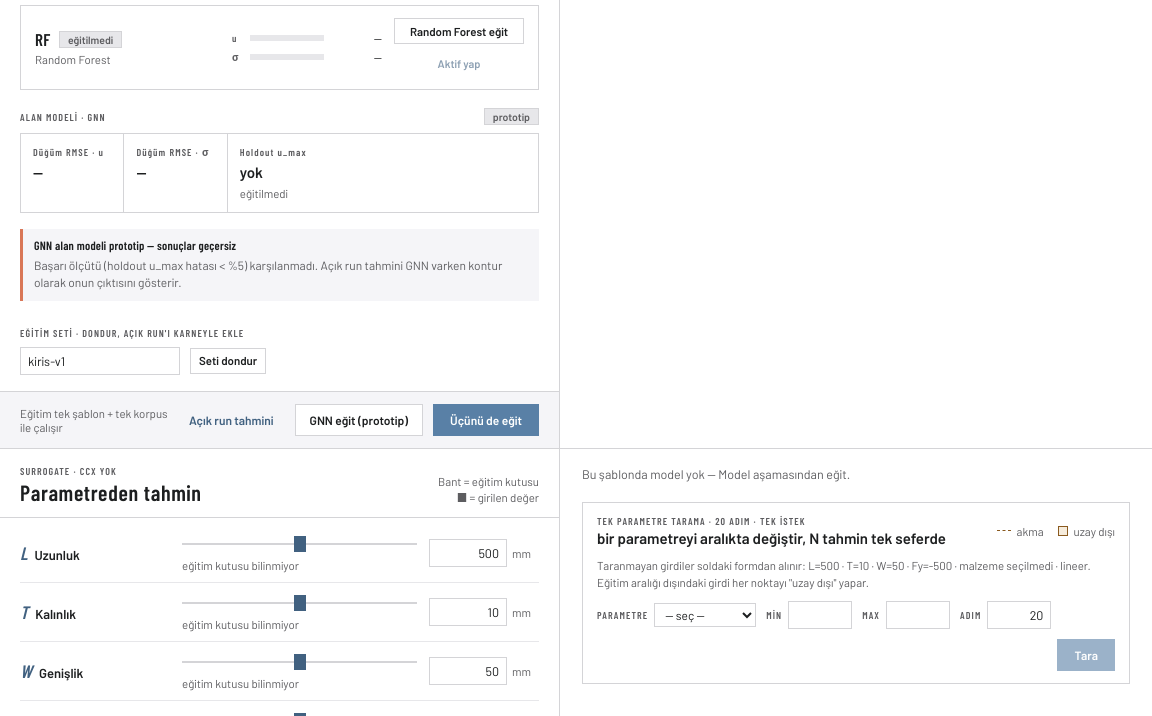
SurrogatePanel › seti dondurur ve eğitimi o setle çalıştırır
(page scrolled)
Click the button "Seti dondur": (228, 361) [190,348,266,374]
(page scrolled)
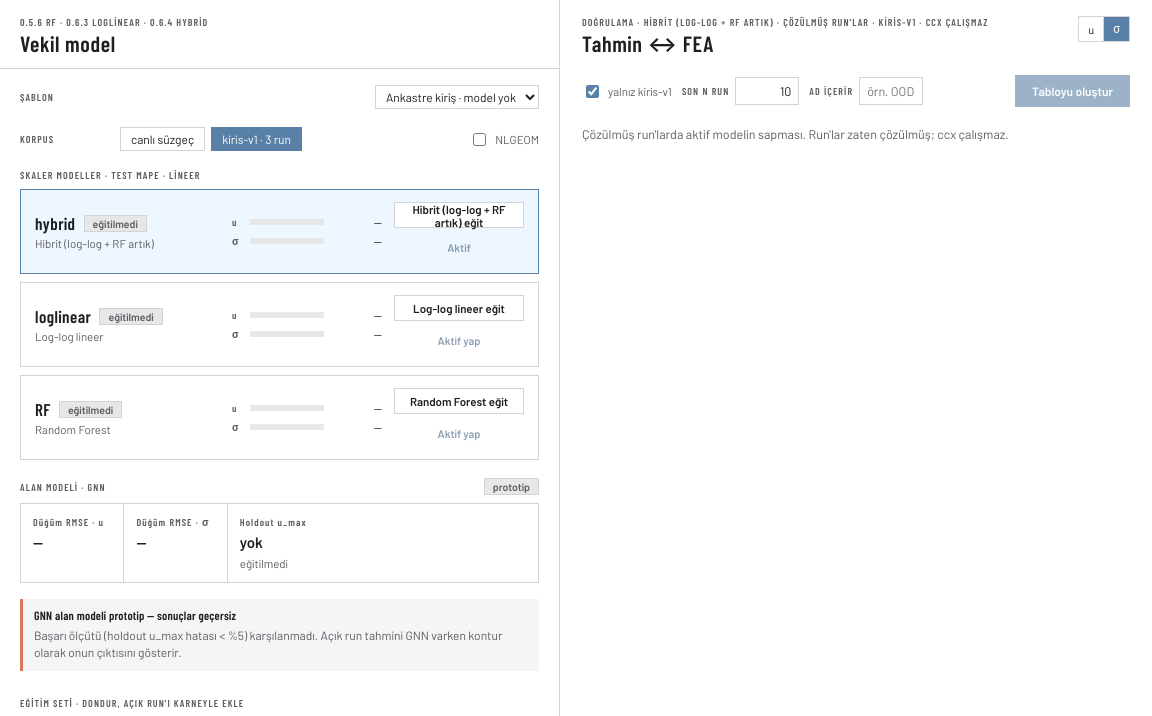
Click the button "Hibrit (log-log + RF artık) eğit": (459, 215) [394,202,524,228]
(page scrolled)
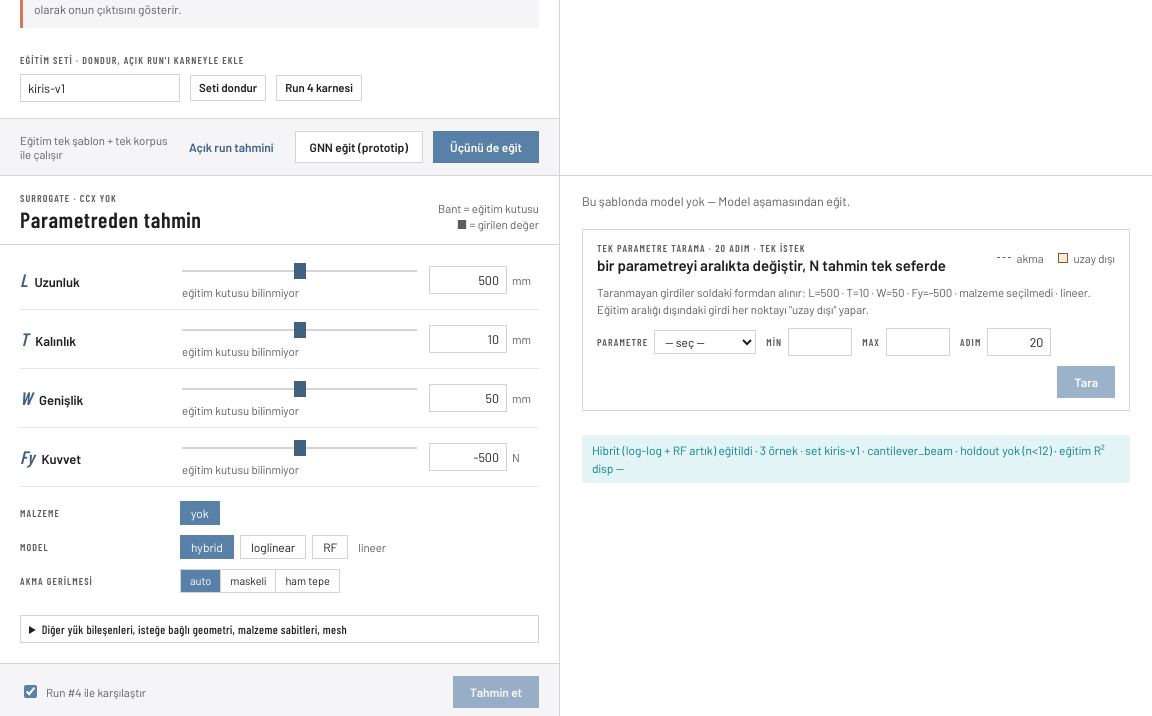
Result: the text "set kiris-v1" is shown at [592,443,1105,475]
